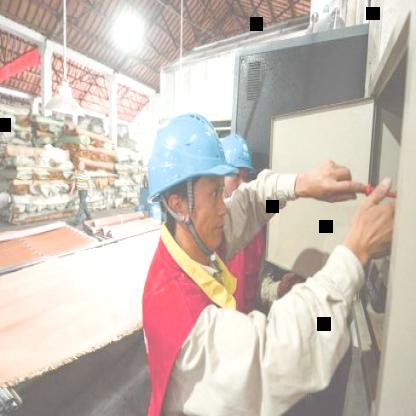head: (77, 156, 88, 174)
helmet: (143, 100, 241, 250), (217, 136, 254, 193)
